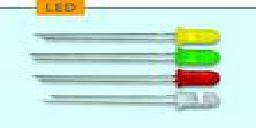LED: (31, 26, 222, 46), (29, 68, 226, 87), (165, 88, 227, 112), (170, 49, 222, 66)
